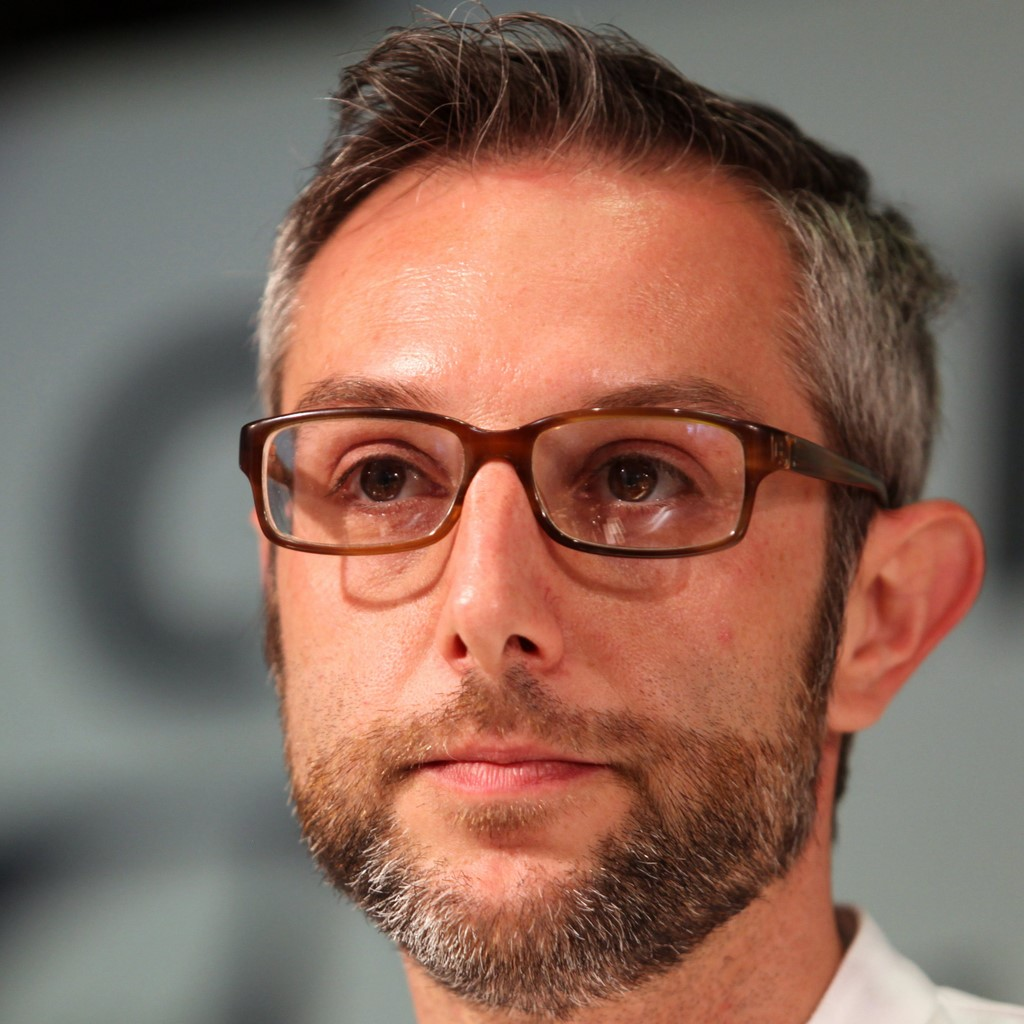sin_mascara: (289, 144, 864, 978)
